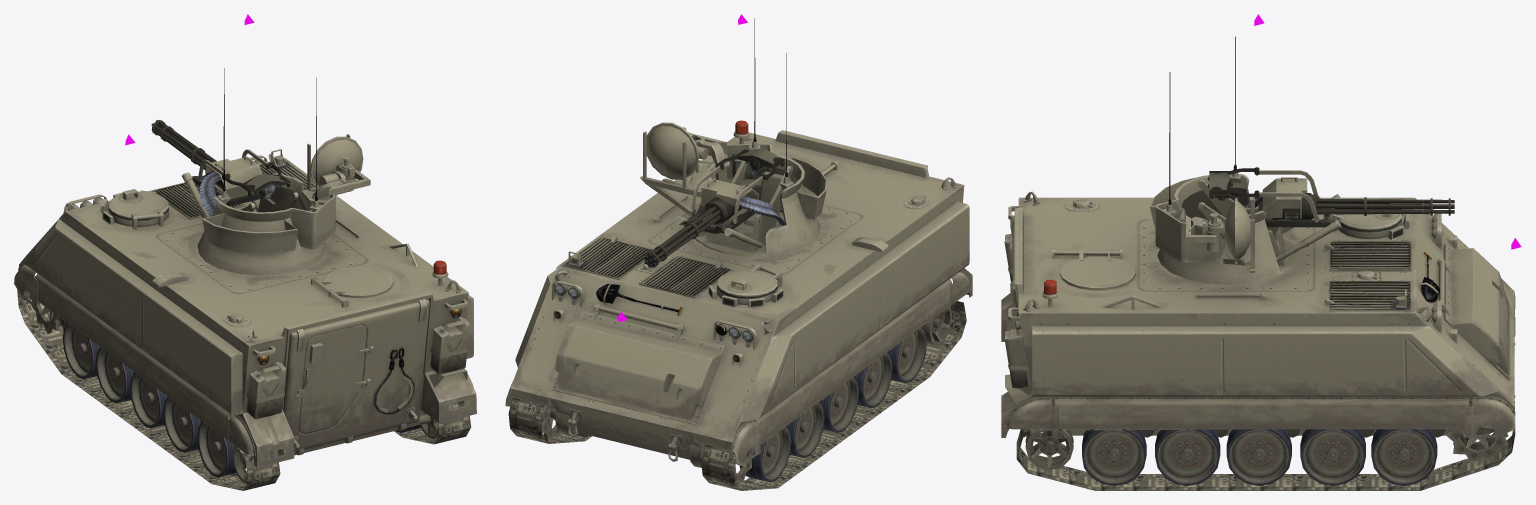
3 renders of one model, left to right at view 1: azimuth 30°, elevation 25°; view 2: azimuth 150°, elevation 25°; view 3: azimuth 270°, elevation 25°, orthographic. The views are drawn at different scales.
Parts seen in each view (by area): view 1: Body_1, Turret_1; view 2: Body_1, Turret_1; view 3: Body_1, Turret_1.
Part boxes in pixels (box(x1,y1,x2,y2)): Body_1: box(14, 149, 476, 490); Turret_1: box(132, 68, 370, 303); Body_1: box(505, 120, 972, 490); Turret_1: box(640, 18, 835, 277); Body_1: box(1001, 191, 1515, 490); Turret_1: box(1055, 36, 1454, 284).
Size of the model in its own units: 7.06 by 10.77 by 12.15.
Materials: 2 (1 with a texture image).
